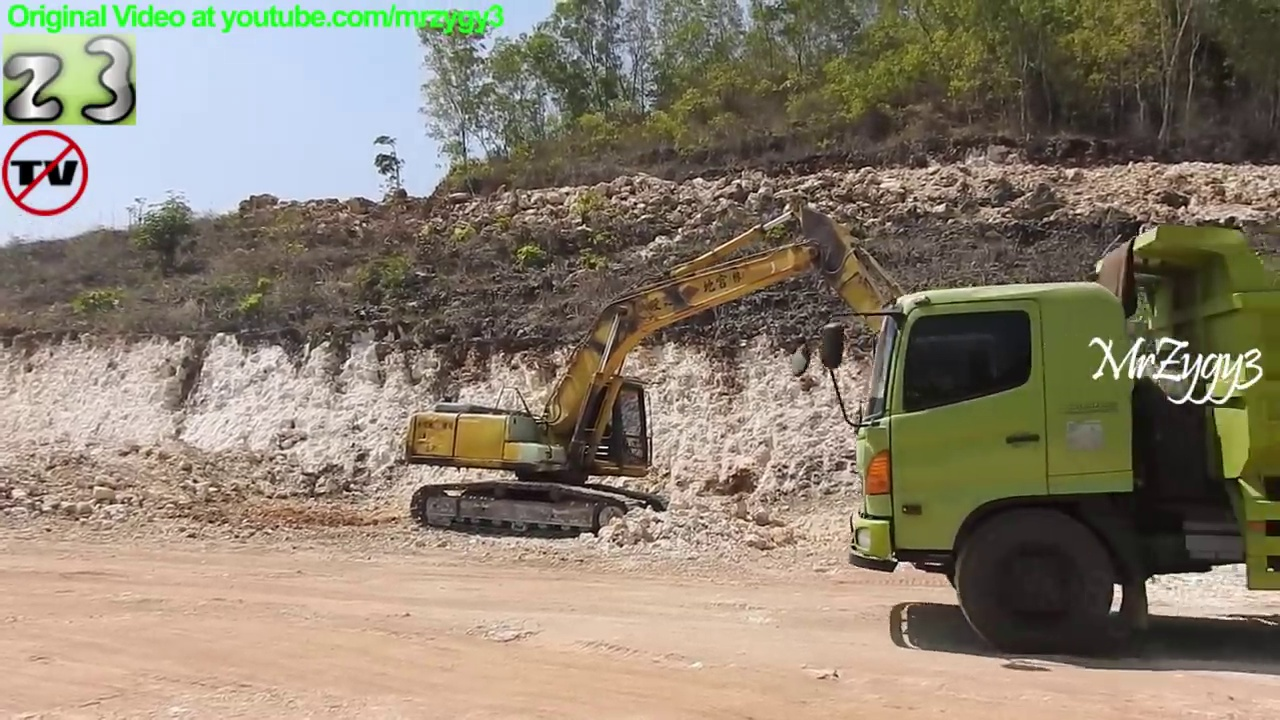excavator: (402, 195, 986, 550)
truck: (771, 210, 1280, 659)
